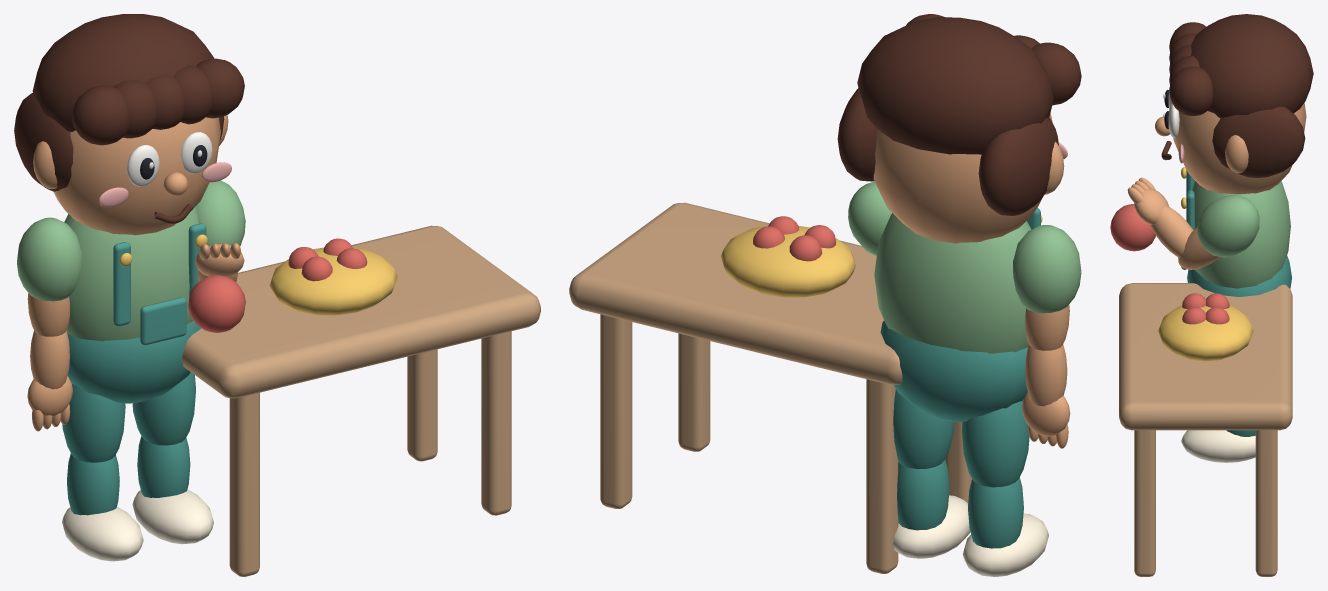
File: daddy-eat.glb
3 renders of one model, left to right at view 1: azimuth 30°, elevation 25°; view 2: azimuth 150°, elevation 25°; view 3: azimuth 270°, elevation 25°, orthographic. The views are drawn at different scales.
Parts seen in each view (by area): view 1: table top, hair cap, clay head, soft shirt, overalls, table leg, table leg.002, food bowl, shirt sleeve, trouser leg, table leg.003, little shoe (+22 smaller); view 2: table top, hair cap, soft shirt, clay head, overalls, table leg.003, food bowl, table leg.001, bob hair, shirt sleeve, trouser leg, table leg.002 (+13 smaller); view 3: table top, hair cap, soft shirt, bob hair.001, clay head, food bowl, table leg.003, table leg.002, shirt sleeve.001, little shoe.001, fringe.004, little apple (+14 smaller).
Part boxes in pixels (box(x1,y1,x2,y2)): table top: box(182, 225, 540, 398); hair cap: box(32, 14, 214, 131); clay head: box(53, 117, 220, 235); soft shirt: box(64, 206, 198, 341); overalls: box(67, 321, 200, 403); table leg: box(229, 392, 259, 576); table leg.002: box(481, 331, 511, 515); food bowl: box(269, 247, 397, 315); shirt sleeve: box(17, 217, 81, 301); trouser leg: box(62, 384, 125, 462); table leg.003: box(407, 349, 437, 461); little shoe: box(62, 507, 143, 561); table top: box(569, 202, 902, 385); hair cap: box(857, 17, 1053, 154); soft shirt: box(874, 213, 1031, 353); clay head: box(873, 113, 1052, 243); overalls: box(880, 321, 1027, 422); table leg.003: box(600, 314, 632, 508); food bowl: box(721, 225, 855, 297); table leg.001: box(866, 379, 898, 573); bob hair: box(978, 117, 1058, 215); shirt sleeve: box(1013, 225, 1081, 313); trouser leg: box(962, 399, 1029, 487); table leg.002: box(678, 333, 710, 451); table top: box(1119, 283, 1292, 430); hair cap: box(1191, 14, 1313, 118); soft shirt: box(1192, 181, 1290, 288); bob hair.001: box(1212, 106, 1305, 177); clay head: box(1172, 103, 1306, 194); food bowl: box(1158, 305, 1253, 361); table leg.003: box(1255, 430, 1277, 576); table leg.002: box(1134, 430, 1155, 576); shirt sleeve.001: box(1197, 195, 1259, 257); little shoe.001: box(1181, 430, 1255, 462); fringe.004: box(1169, 66, 1213, 115); little apple: box(1110, 204, 1155, 251).
Bounding box in the file's own units: 1.98 × 2.17 × 0.9365.
